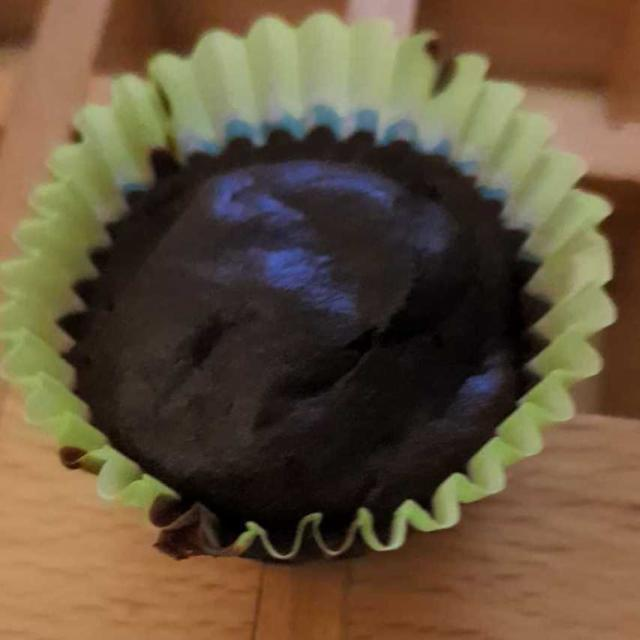cake: (22, 18, 611, 556)
